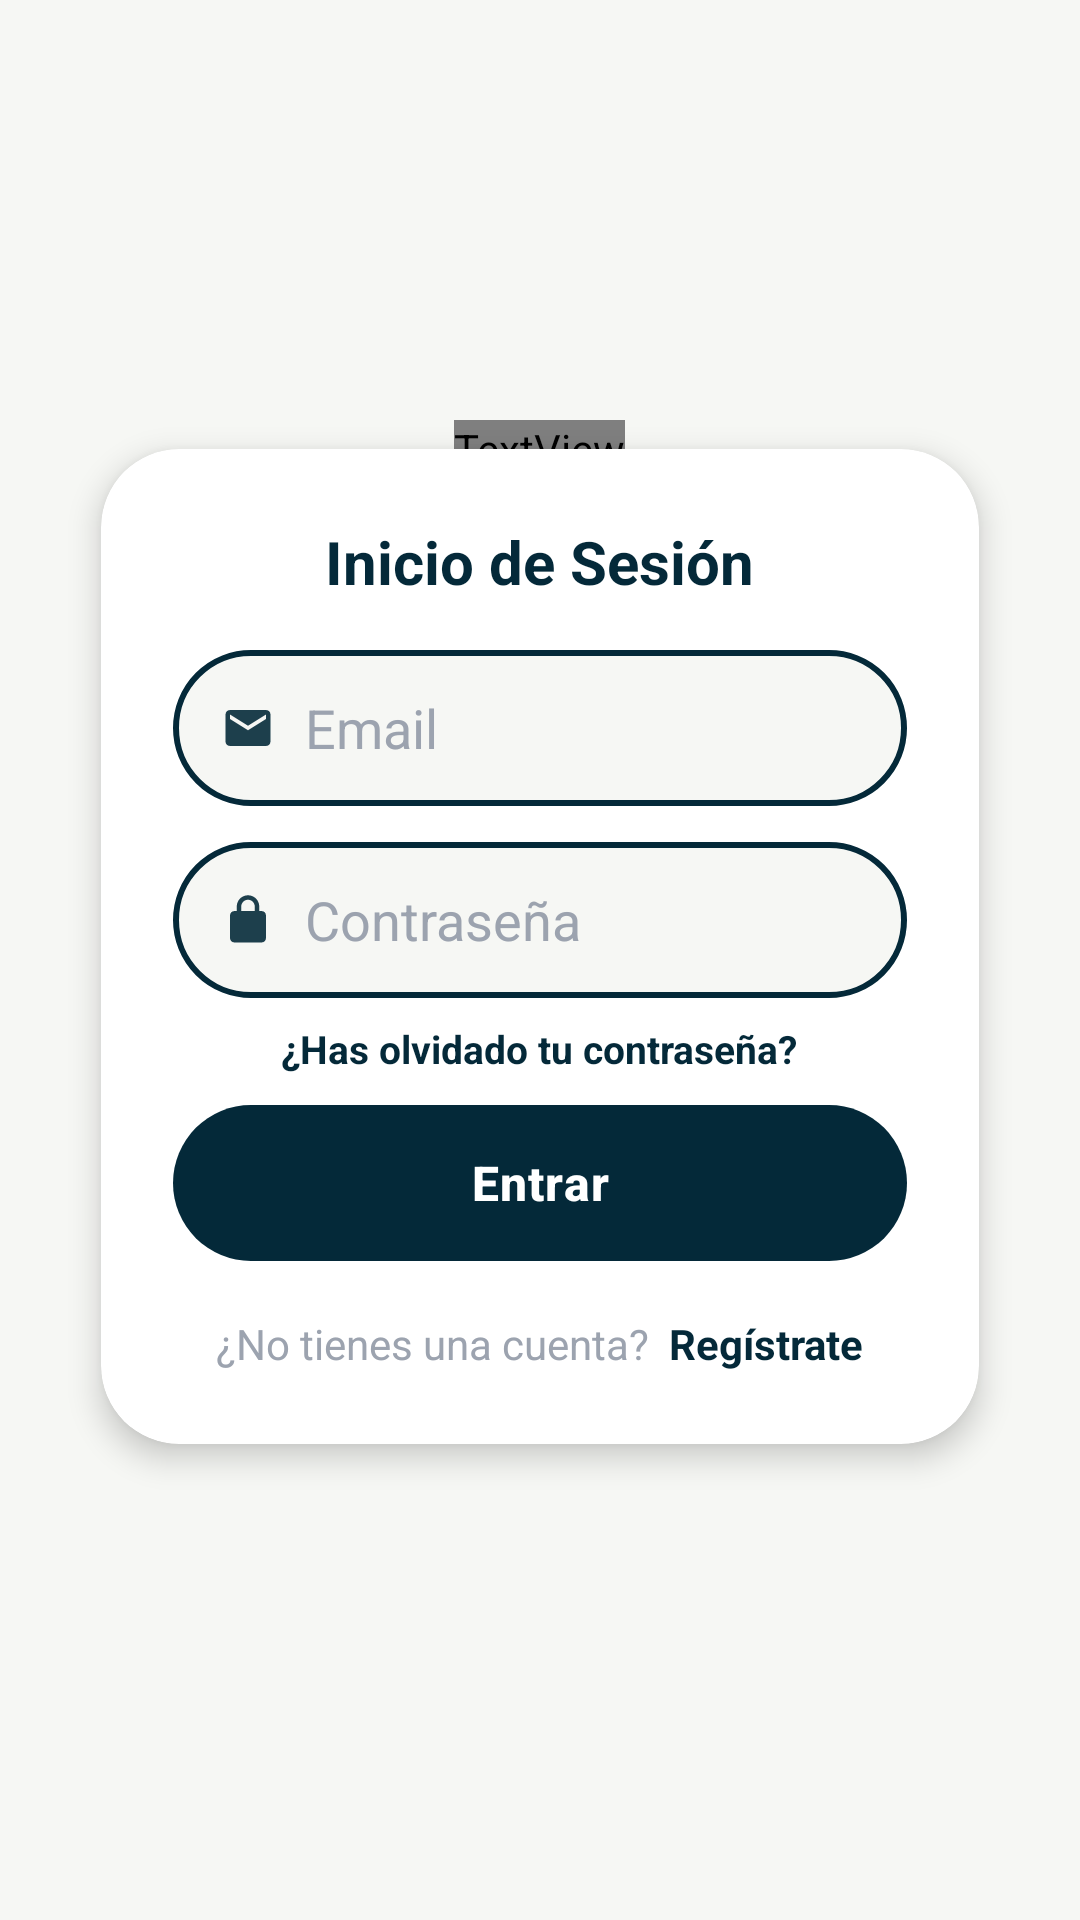

Where to tap for icons on this 1080w x 1920h app screen, as point (x, y):
lock: point (248, 919)
